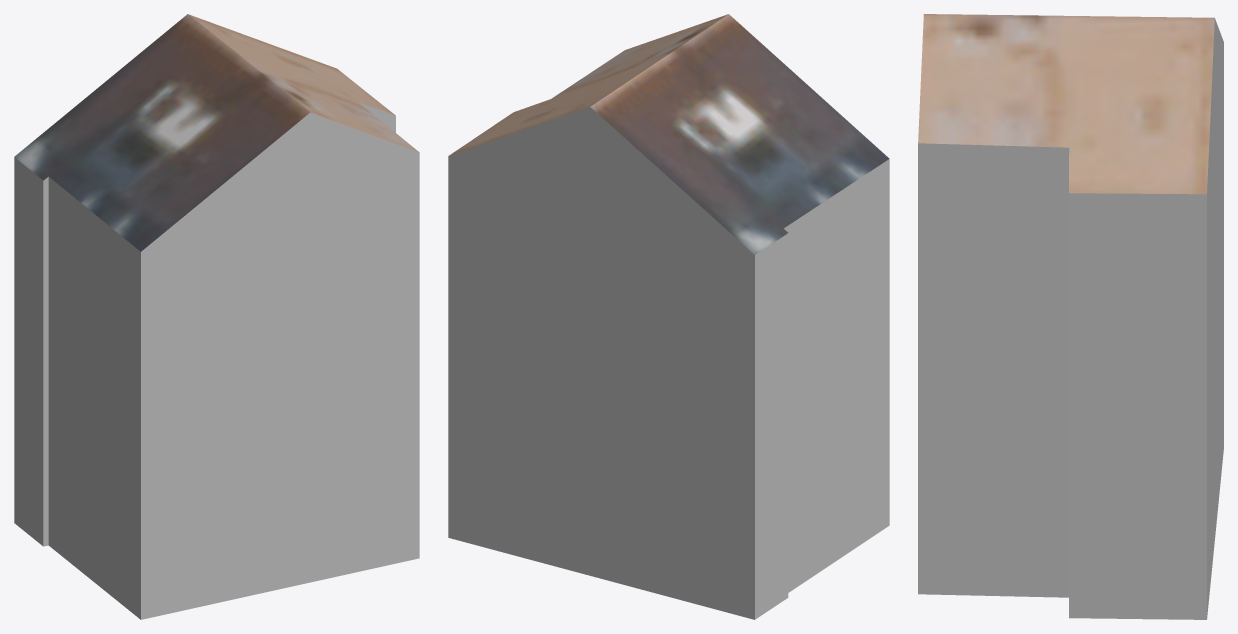
Rendered from DEBW_0010007Txbt.gltf.
The picture shows the model from 3 angles, left to right: view 1: azimuth 30°, elevation 25°; view 2: azimuth 150°, elevation 25°; view 3: azimuth 270°, elevation 25°; orthographic projection. The views are drawn at different scales.
Parts seen in each view (by area): view 1: Z_UP; view 2: Z_UP; view 3: Z_UP.
Boxes of the visible parts, bbox=[...] form: Z_UP: bbox=[14, 14, 419, 619]; Z_UP: bbox=[448, 14, 889, 619]; Z_UP: bbox=[918, 14, 1223, 619].
Bounding box in the file's own units: 12.62 × 17.76 × 9.41.
2 materials, 1 textured.
